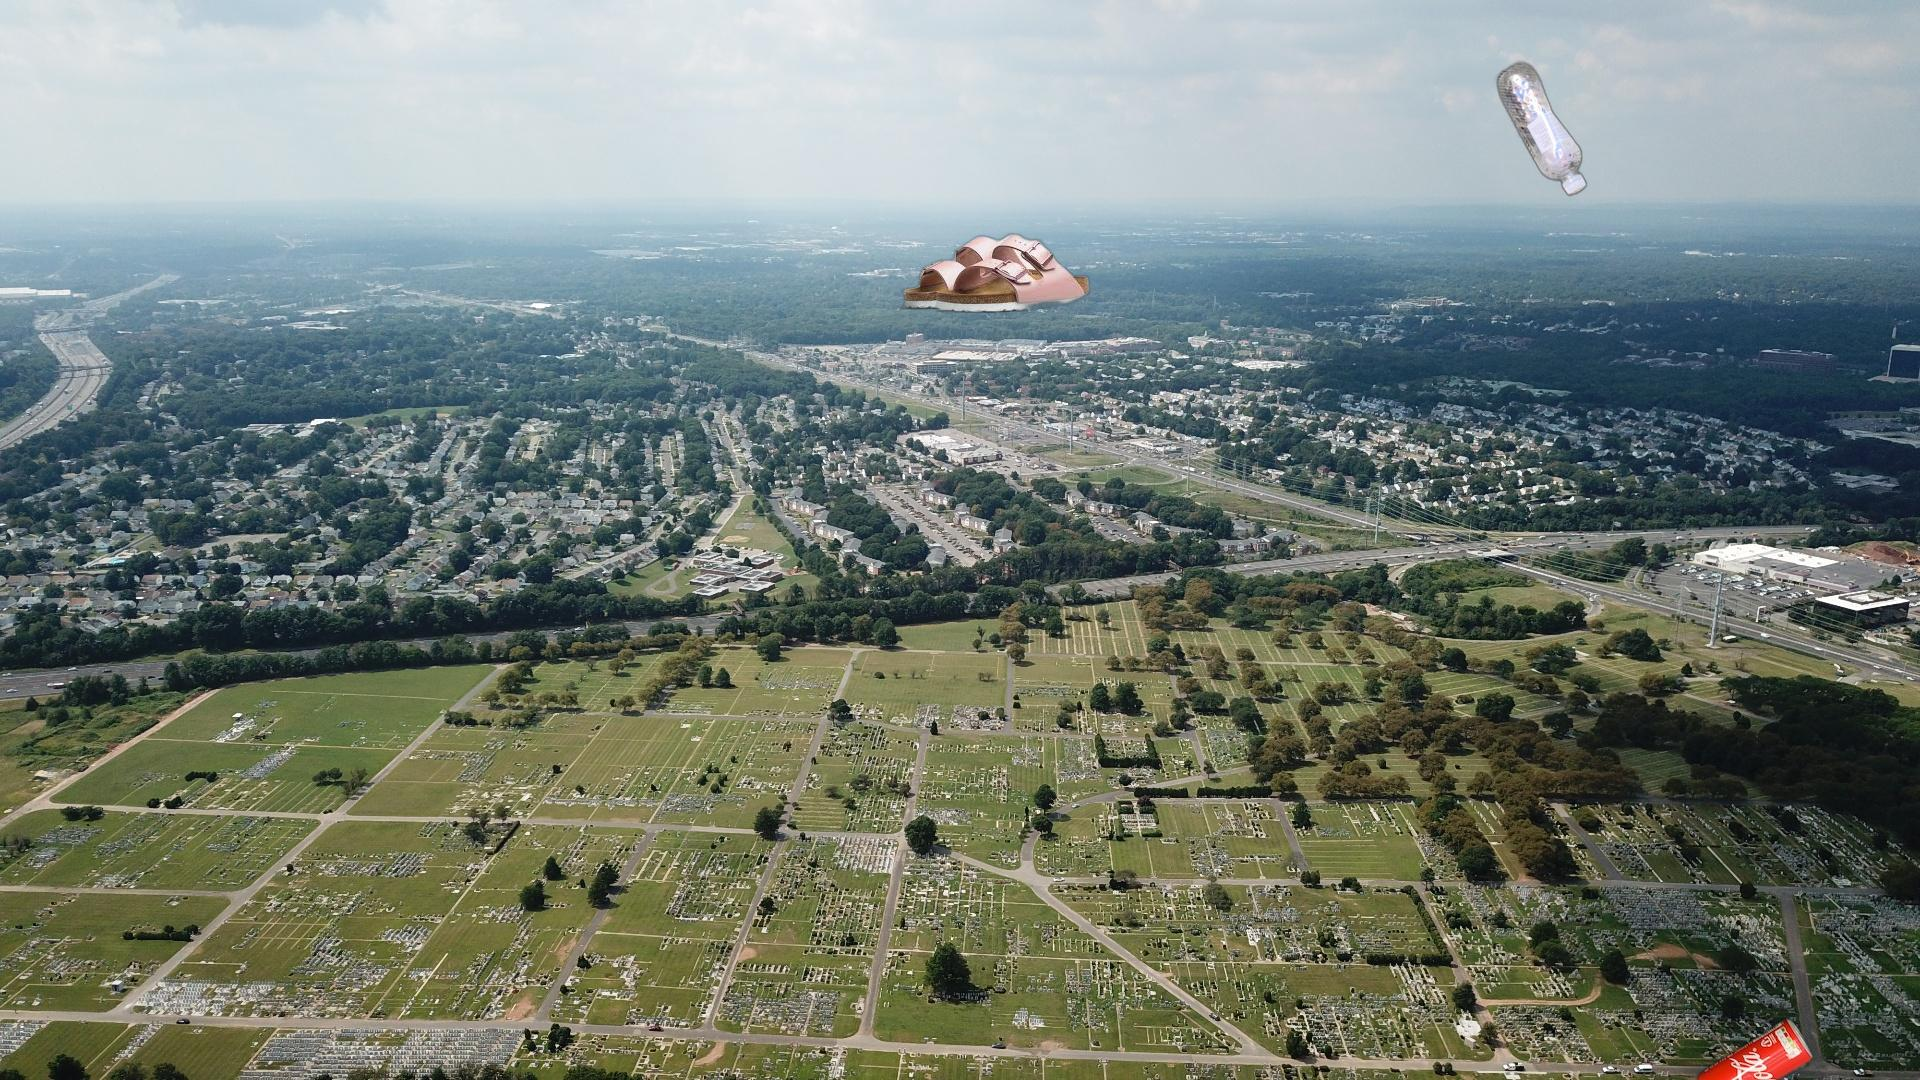metal-cans: (415, 1031, 927, 1080), (1691, 1013, 1818, 1080)
plastic-bottles: (1491, 57, 1592, 200)
shoes: (890, 231, 1092, 316)
